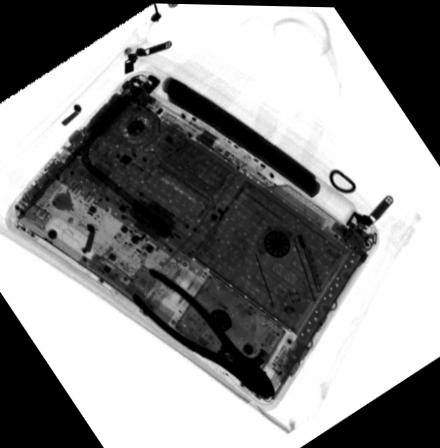Pliers: (130, 266, 278, 397)
